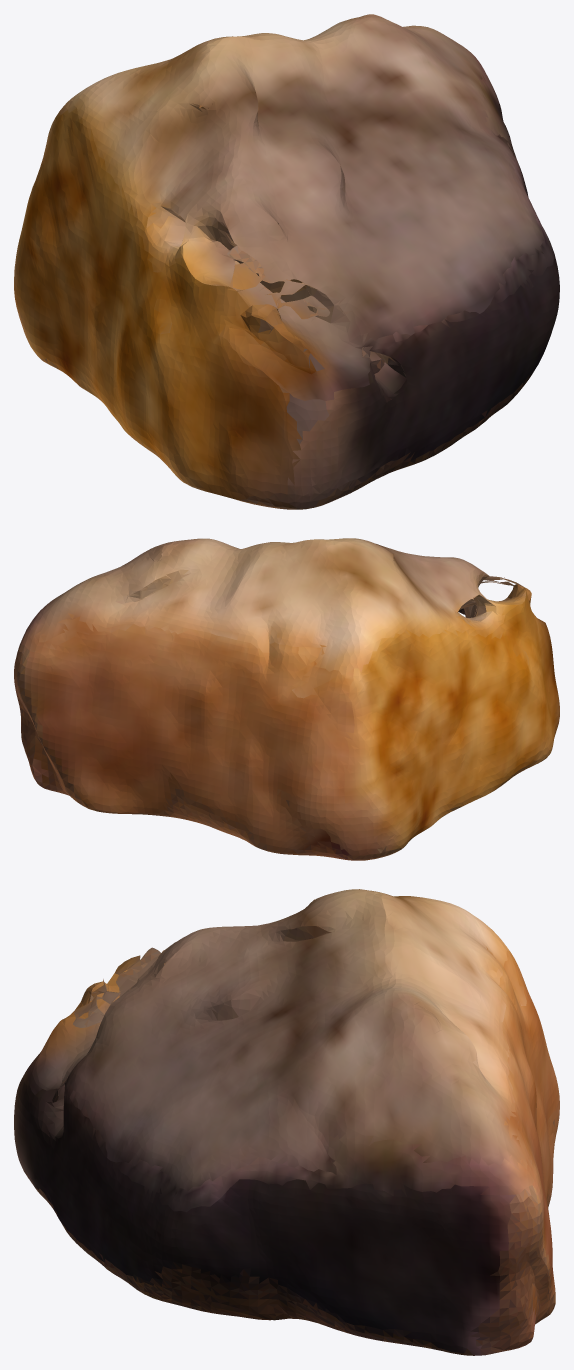
Rendered from model_New Qlone.obj.
3 views of the same model, one above another, from view 1: azimuth 30°, elevation 25°; view 2: azimuth 150°, elevation 25°; view 3: azimuth 270°, elevation 25° (orthographic). The views are drawn at different scales.
Size of the model in its own units: 33.04 by 21.27 by 32.83.
1 material, 1 textured.
